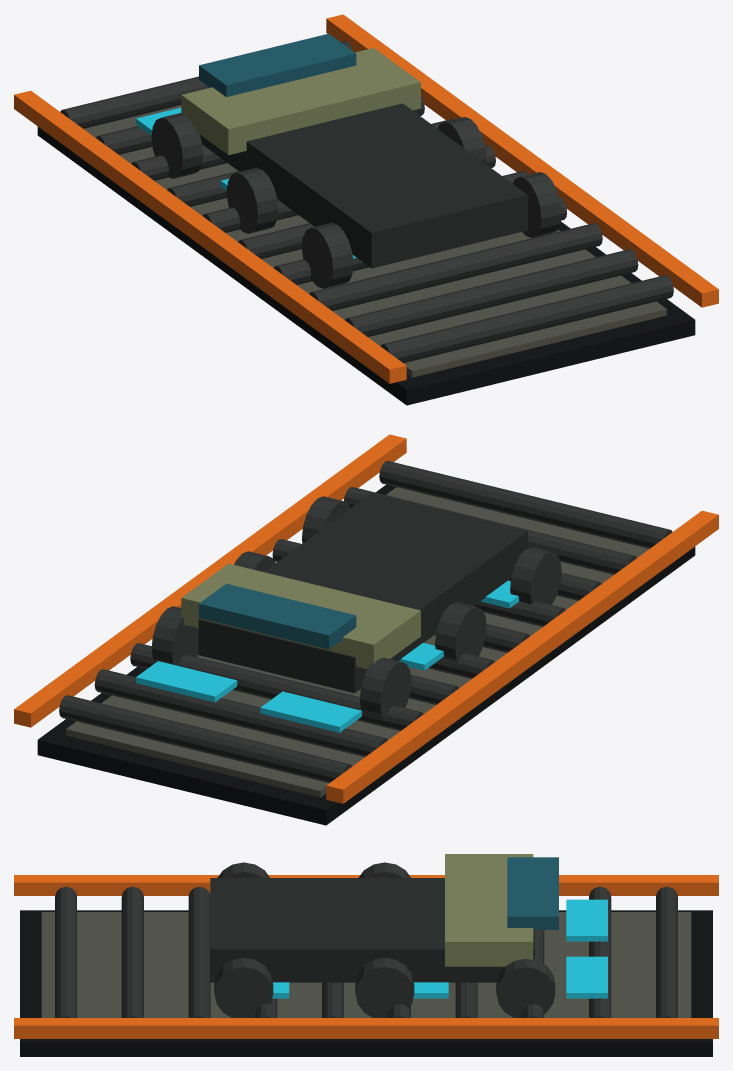
Rendered from Bastion_WarFactoryCMV2_Conveyor.obj.
The picture shows the model from 3 angles, top to bottom: view 1: azimuth 30°, elevation 25°; view 2: azimuth 150°, elevation 25°; view 3: azimuth 270°, elevation 25°; orthographic projection. The views are drawn at different scales.
Visible parts, largest first — view 1: vehicle_chassis_20, conveyor_belt_deck_1, conveyor_belt_black_0, conveyor_orange_side_strip_12, vehicle_cab_21, conveyor_orange_side_strip_13, conveyor_roller_9, conveyor_roller_11, conveyor_roller_10, vehicle_window_22, conveyor_roller_2, chassis_wheel_25 (+10 smaller); view 2: vehicle_chassis_20, conveyor_belt_deck_1, conveyor_belt_black_0, conveyor_orange_side_strip_12, conveyor_orange_side_strip_13, vehicle_cab_21, conveyor_roller_2, conveyor_roller_11, conveyor_roller_3, vehicle_window_22, conveyor_roller_4, conveyor_roller_10 (+13 smaller); view 3: conveyor_belt_deck_1, vehicle_chassis_20, conveyor_belt_black_0, conveyor_orange_side_strip_13, vehicle_cab_21, conveyor_orange_side_strip_12, vehicle_window_22, conveyor_roller_10, conveyor_roller_9, chassis_wheel_28, conveyor_roller_2, conveyor_roller_11 (+11 smaller).
Boxes of the visible parts, <box> form: vehicle_chassis_20: <box>199,103,527,268</box>; conveyor_belt_deck_1: <box>83,105,666,377</box>; conveyor_belt_black_0: <box>37,126,695,405</box>; conveyor_orange_side_strip_12: <box>14,90,406,383</box>; vehicle_cab_21: <box>181,48,420,155</box>; conveyor_orange_side_strip_13: <box>326,14,718,307</box>; conveyor_roller_9: <box>309,223,602,310</box>; conveyor_roller_11: <box>380,275,673,362</box>; conveyor_roller_10: <box>345,249,638,336</box>; vehicle_window_22: <box>199,33,356,97</box>; conveyor_roller_2: <box>60,41,352,128</box>; chassis_wheel_25: <box>302,222,353,288</box>; vehicle_chassis_20: <box>198,493,527,693</box>; conveyor_belt_deck_1: <box>66,487,649,797</box>; conveyor_belt_black_0: <box>37,484,695,825</box>; conveyor_orange_side_strip_12: <box>326,510,718,803</box>; conveyor_orange_side_strip_13: <box>14,434,406,727</box>; vehicle_cab_21: <box>181,563,420,669</box>; conveyor_roller_2: <box>59,695,352,782</box>; conveyor_roller_11: <box>379,461,672,548</box>; conveyor_roller_3: <box>94,669,387,756</box>; vehicle_window_22: <box>199,583,356,649</box>; conveyor_roller_4: <box>130,643,423,730</box>; conveyor_roller_10: <box>344,487,636,574</box>; conveyor_belt_deck_1: <box>41,912,691,1017</box>; vehicle_chassis_20: <box>210,878,534,982</box>; conveyor_belt_black_0: <box>20,910,712,1056</box>; conveyor_orange_side_strip_13: <box>14,1018,718,1038</box>; vehicle_cab_21: <box>445,854,533,966</box>; conveyor_orange_side_strip_12: <box>14,875,718,895</box>; vehicle_window_22: <box>507,857,558,929</box>; conveyor_roller_10: <box>121,886,143,1017</box>; conveyor_roller_9: <box>188,886,210,1017</box>; chassis_wheel_28: <box>214,958,273,1017</box>; conveyor_roller_2: <box>656,886,677,1017</box>; conveyor_roller_11: <box>55,886,76,1017</box>.
Size of the model in its own units: 2.91 by 0.935 by 5.75.
8 materials, 8 textured.
